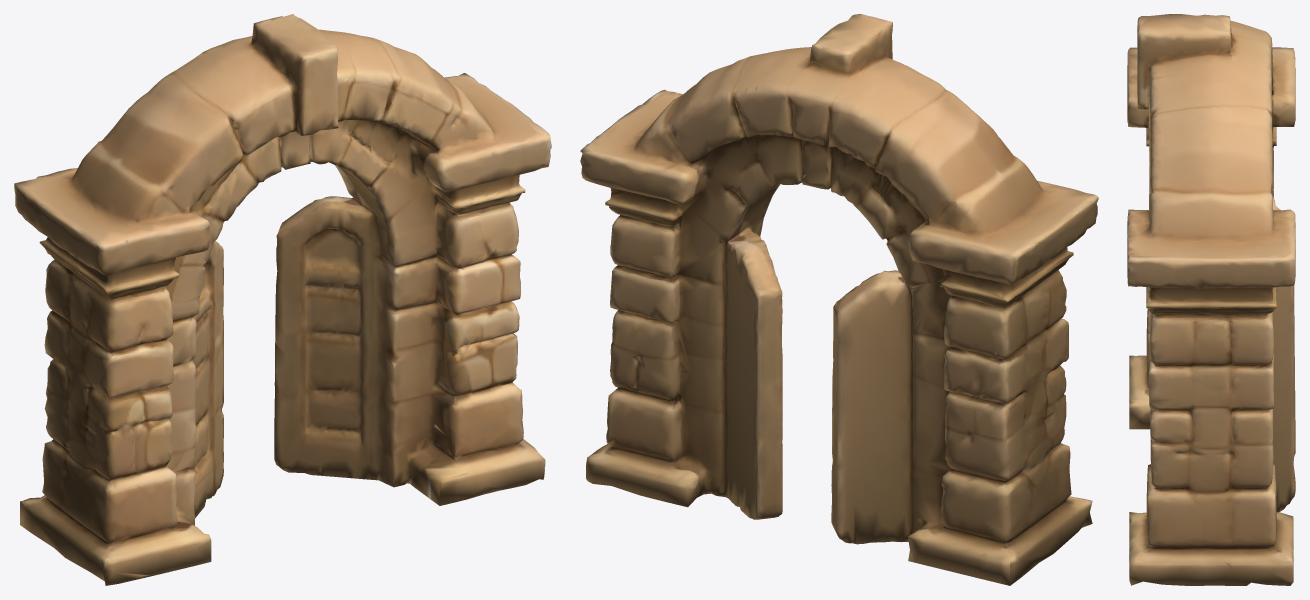
The model's file is archway.glb.
3 renders of one model, left to right at view 1: azimuth 30°, elevation 25°; view 2: azimuth 150°, elevation 25°; view 3: azimuth 270°, elevation 25°, orthographic. The views are drawn at different scales.
Parts seen in each view (by area): view 1: model; view 2: model; view 3: model.
Boxes of the visible parts, x1,y1,x2,y2 form: model: [14, 14, 551, 585]; model: [580, 14, 1098, 585]; model: [1127, 14, 1295, 585].
Bounding box in the file's own units: 1.9 × 1.9 × 0.6308.
Materials: 1 (1 with a texture image).
